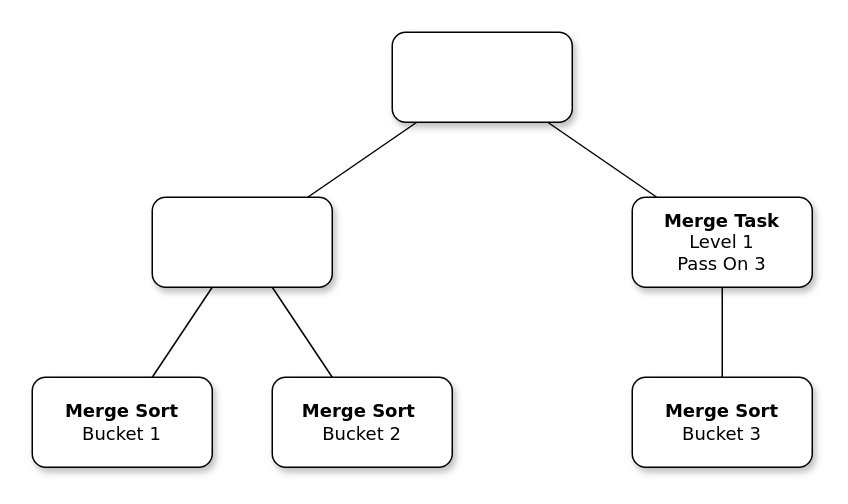
Image size: 848x504. Some labels were removed from this diagram. Here are the shapes that lost their labels. From the top down, the centre of each, then its label:
the point at 483,79: Root Task Merge L1 & L2
the point at 243,244: Merge Task Level 1 Merge 1&2
